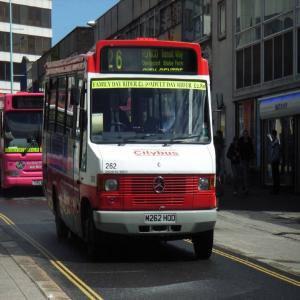Vehicle-registration-plate: (146, 214, 178, 225), (33, 181, 44, 187)
